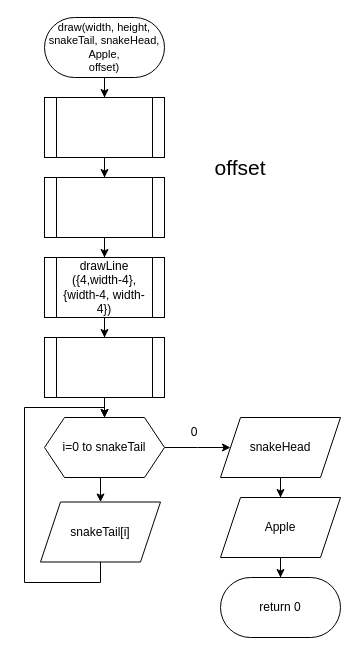
This 358x655 diagram has some shape labels left out. Here are the shapes that lost their labels. From the top down, the centre of each, then its label:
At (104,127): "drawLine ({4,4}, {4, width-4})".
At (104,207): "drawLine ({4,4}, {width-4, 4})".
At (104,367): "drawLine ({width-4,4}, {width-4, width-4})".
